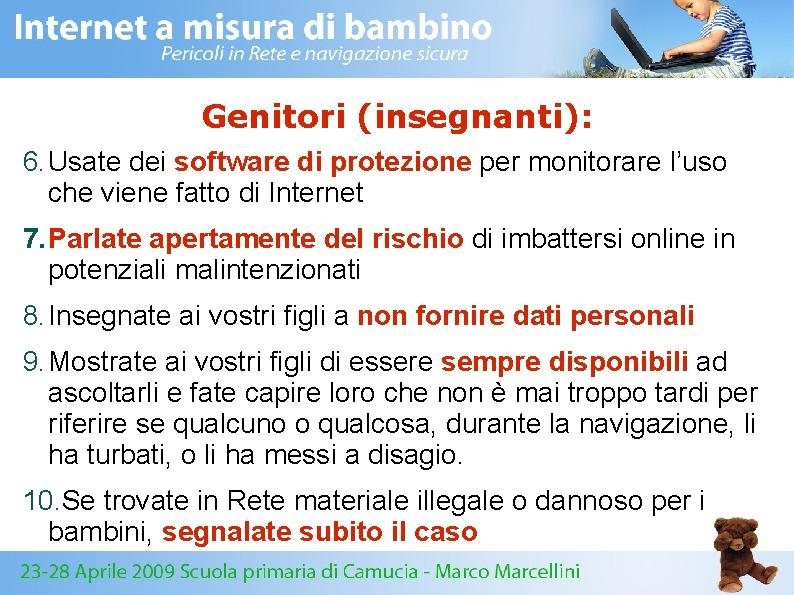subtitle: (13, 141, 770, 547), (8, 552, 601, 593), (193, 87, 610, 140)
title: (7, 7, 518, 70)
